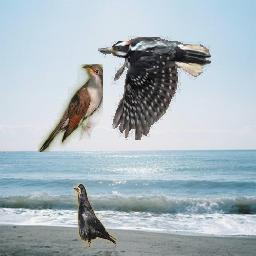Crow: (74, 184, 117, 249)
Cuckoo: (39, 64, 104, 152)
Woodpecker: (99, 36, 212, 140)
